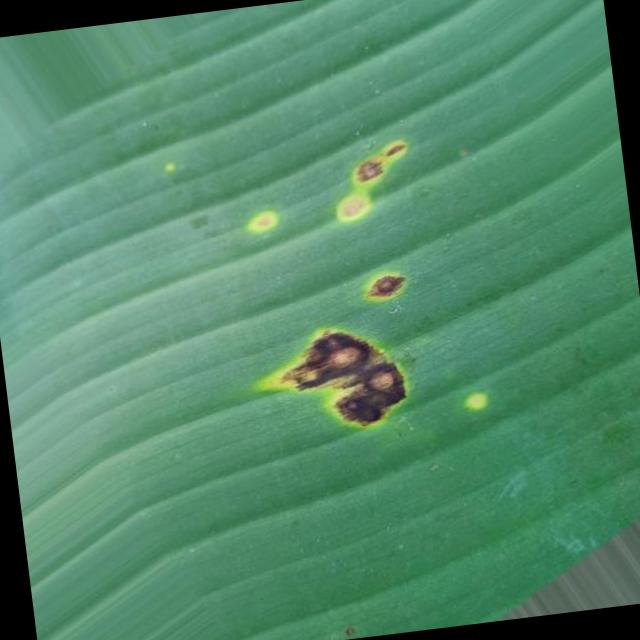Banana_Black_Sigatoka: (242, 125, 480, 472)
